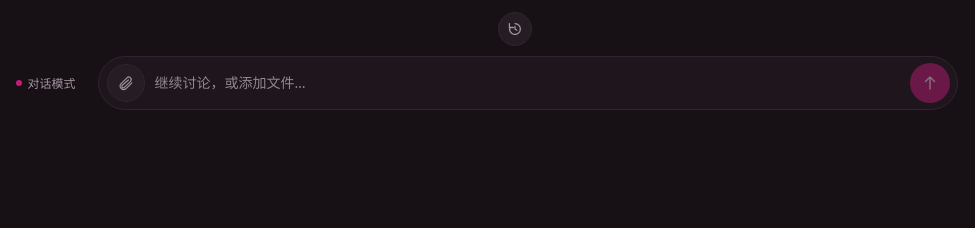
it: 话题位置与输入提示（v2：入口② + 输入区） › 没有片段标题时也能读懂的兜底文案
Click the button named "从历史继续：说明下一条消息从哪段历史继续；收起不会取消已选位置" at (515, 29), box [498,12,532,46]
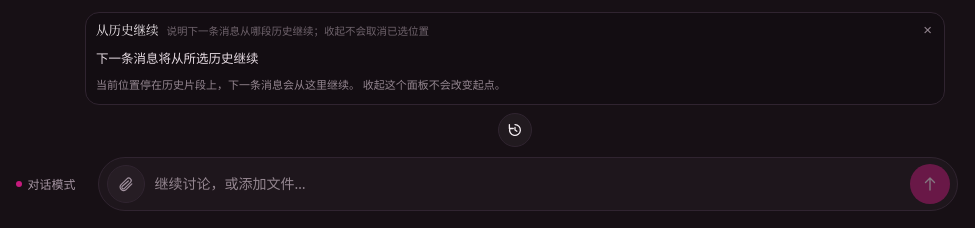
Expected: the element named "从历史继续" shows "当前位置停在历史片段上", [85,12,945,105]
Expected: the element named "从历史继续" shows "下一条消息会从这里继续", [206,77,506,92]
